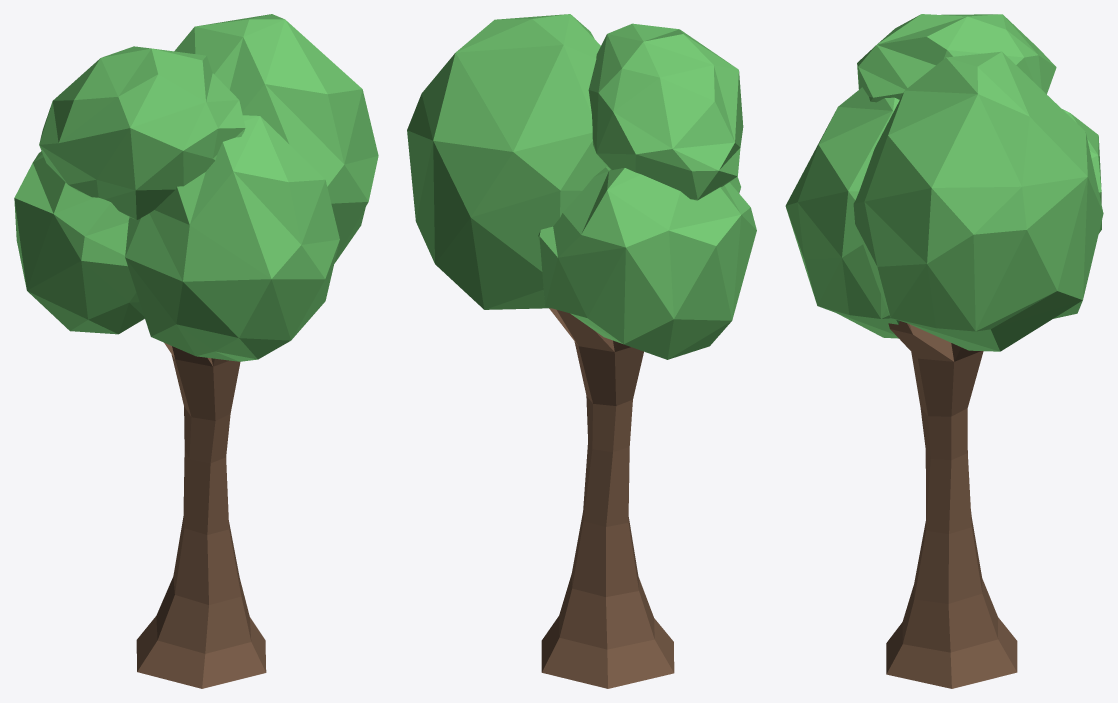
The model's file is Arbre_Géant.fbx.
3 views of the same model, side by side, from view 1: azimuth 30°, elevation 25°; view 2: azimuth 150°, elevation 25°; view 3: azimuth 270°, elevation 25° (orthographic). The views are drawn at different scales.
Visible parts, largest first — view 1: pCube5, pCube6, pCylinder14, pCube4, pCube3; view 2: pCube4, pCube3, pCylinder14, pCube6; view 3: pCube4, pCylinder14, pCube5, pCube6, pCube3.
Part boxes in pixels (bbox=[...]): pCube5: bbox=[125, 114, 339, 361]; pCube6: bbox=[39, 46, 245, 219]; pCylinder14: bbox=[136, 342, 266, 688]; pCube4: bbox=[174, 14, 378, 263]; pCube3: bbox=[14, 151, 144, 334]; pCube4: bbox=[407, 14, 607, 309]; pCube3: bbox=[538, 167, 756, 359]; pCylinder14: bbox=[541, 308, 674, 688]; pCube6: bbox=[588, 23, 743, 200]; pCube4: bbox=[853, 51, 1103, 351]; pCylinder14: bbox=[886, 321, 1017, 688]; pCube5: bbox=[785, 87, 899, 338]; pCube6: bbox=[857, 14, 1056, 102]; pCube3: bbox=[1062, 109, 1101, 233].
Bounding box in the file's own units: 21.67 × 40.24 × 18.63.
